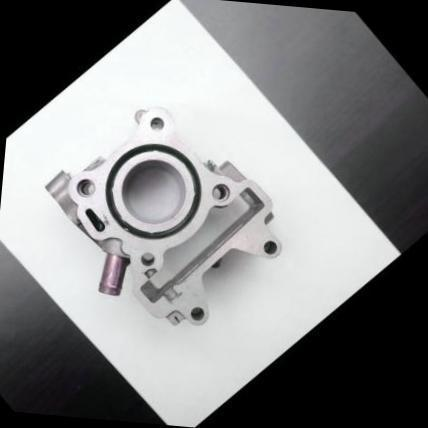hole: (70, 172, 103, 204), (206, 178, 237, 208), (146, 112, 172, 138), (259, 235, 284, 261), (136, 248, 160, 272), (187, 302, 211, 326)
